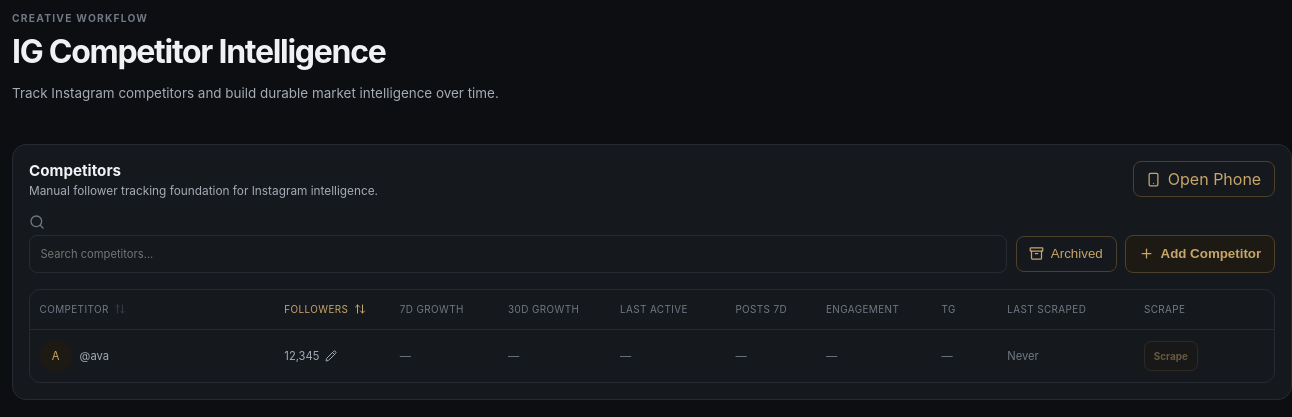
IgCompetitorIntelligencePage › opens the connected phone without navigation and prevents clicks while pending
This screenshot has width=1292, height=417.
Click the button "Open Phone" at (1204, 179), box [1133,161,1275,197]
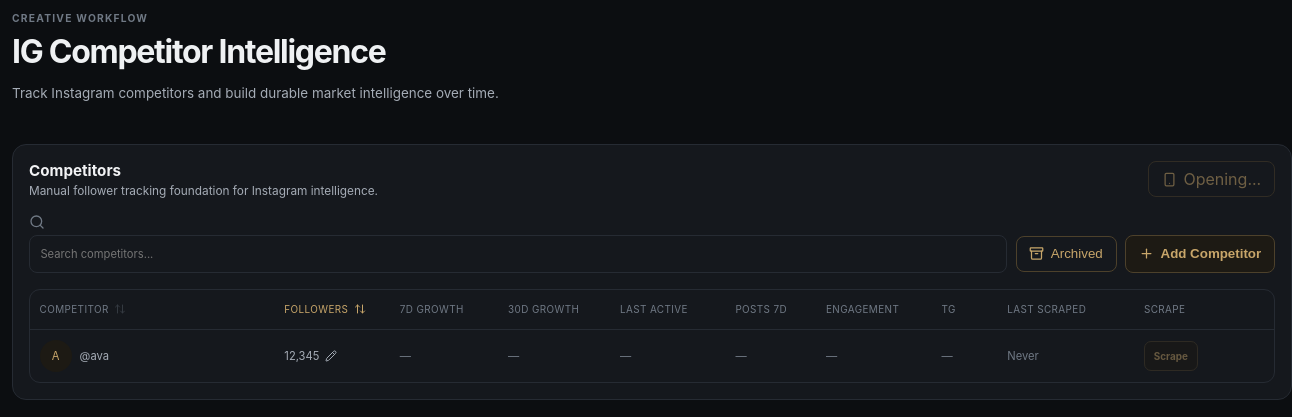
Expected: the button "Opening..." is disabled
Click the button "Opening..." at (1212, 179), box [1148,161,1275,197]
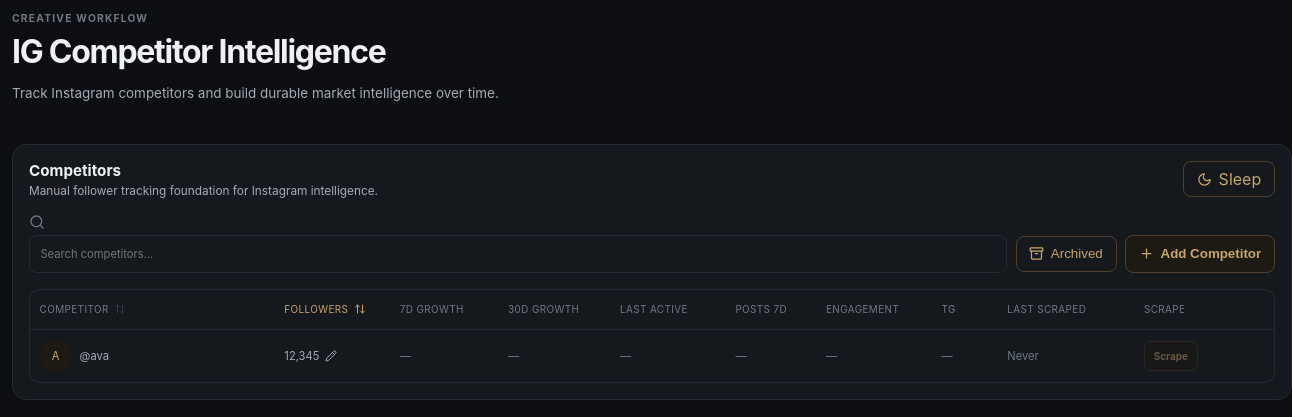
Expected: the button "Sleep" is shown, [1183,161,1275,197]
